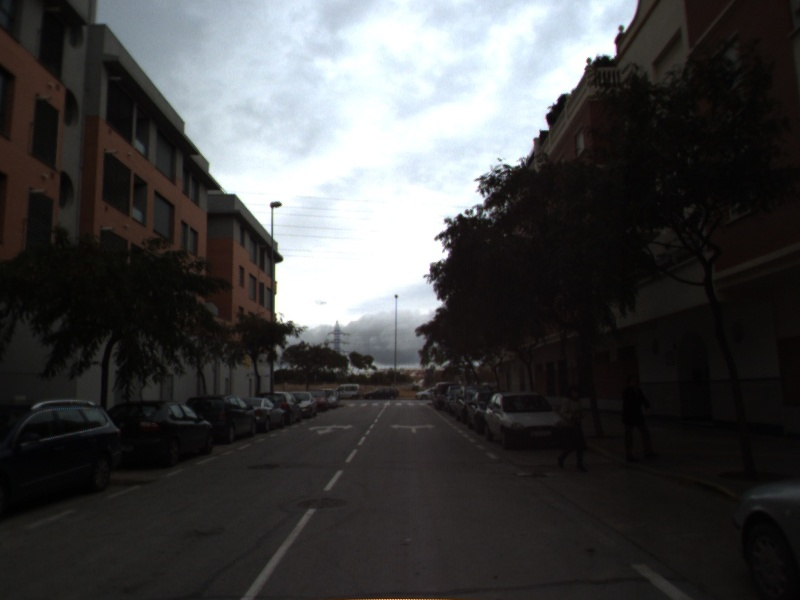LEFT_RIGHT: (389, 421, 437, 434)
